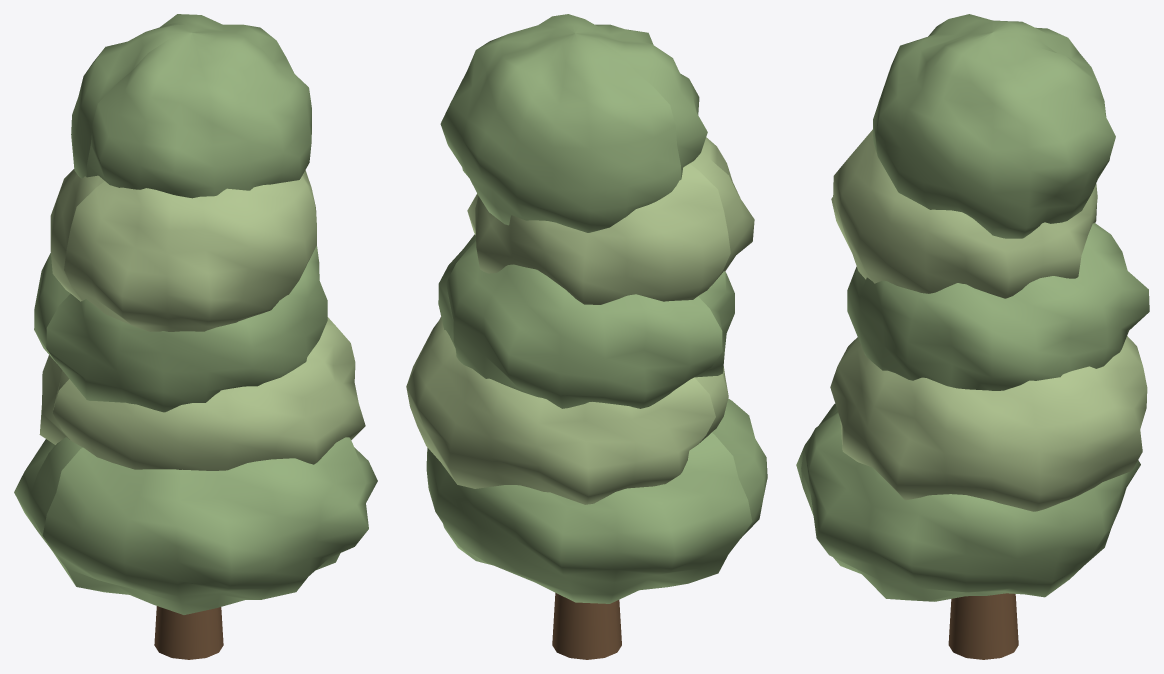
The model's file is oszlopos-diszalma-fa.glb.
3 renders of one model, left to right at view 1: azimuth 30°, elevation 25°; view 2: azimuth 150°, elevation 25°; view 3: azimuth 270°, elevation 25°, orthographic.
Visible parts, largest first — view 1: oszlop-1, oszlop-5, oszlop-4, oszlop-2, oszlop-3, torzs; view 2: oszlop-5, oszlop-1, oszlop-3, oszlop-2, oszlop-4, torzs; view 3: oszlop-5, oszlop-2, oszlop-1, oszlop-3, oszlop-4, torzs.
Part boxes in pixels (box(x1,y1,x2,y2)): oszlop-1: box(14, 437, 377, 614); oszlop-5: box(71, 14, 311, 198); oszlop-4: box(50, 169, 316, 331); oszlop-2: box(39, 317, 365, 470); oszlop-3: box(34, 246, 327, 412); torzs: box(154, 606, 223, 659); oszlop-5: box(440, 14, 707, 232); oszlop-1: box(426, 398, 767, 603); oszlop-3: box(438, 234, 734, 408); oszlop-2: box(406, 317, 728, 504); oszlop-4: box(467, 137, 754, 304); torzs: box(552, 593, 621, 659); oszlop-5: box(873, 14, 1115, 238); oszlop-2: box(830, 336, 1147, 511); oszlop-1: box(796, 403, 1140, 601); oszlop-3: box(847, 222, 1149, 390); oszlop-4: box(831, 129, 1097, 298); torzs: box(948, 593, 1018, 659).
Size of the model in its own units: 2.68 by 5.04 by 2.62.
